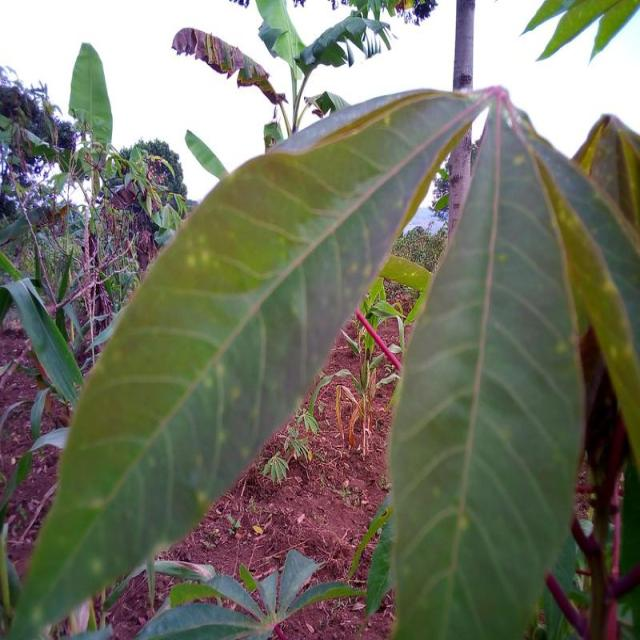cassava leaf: (6, 84, 494, 638), (387, 87, 588, 638)
